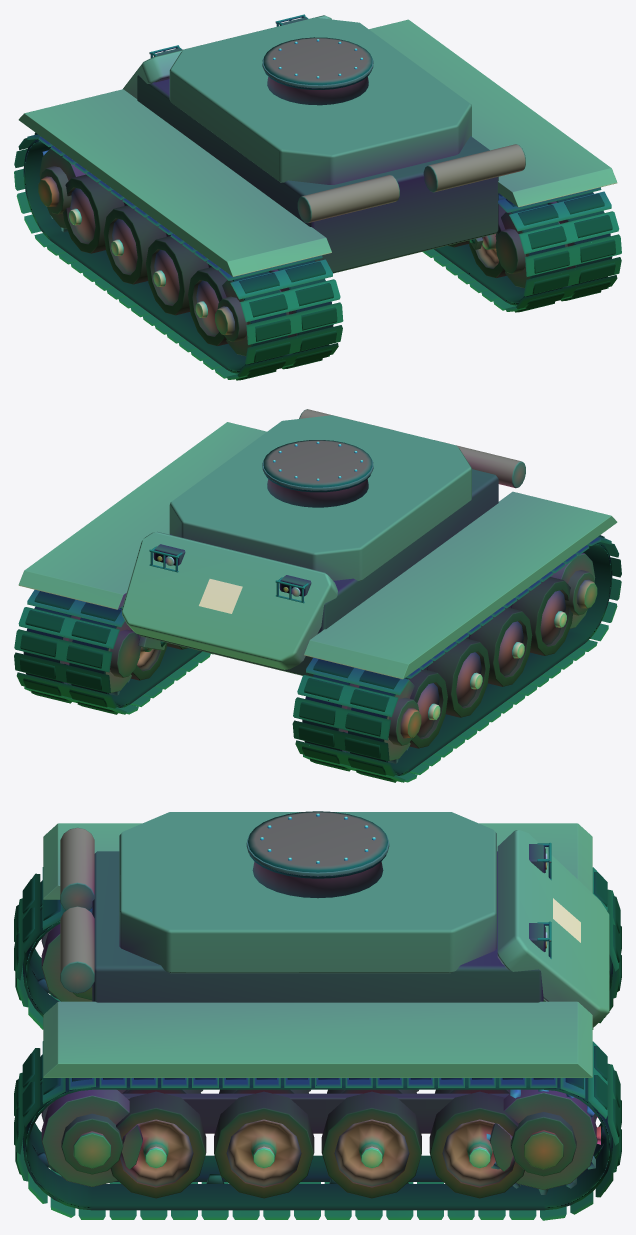
Rendered from legs_tread_light.glb.
The picture shows the model from 3 angles, top to bottom: view 1: azimuth 30°, elevation 25°; view 2: azimuth 150°, elevation 25°; view 3: azimuth 270°, elevation 25°; orthographic projection. The views are drawn at different scales.
Parts seen in each view (by area): view 1: Body__armor_sub, Track_L__armor, Body__dark, Track_L__rubber, Track_R__armor, Track_L__gunmetal, Track_R__rubber, Track_R__gunmetal, Body__gunmetal, Track_L__armor_sub, Track_L__dark, Body__armor (+3 smaller); view 2: Body__armor_sub, Track_L__armor, Track_L__rubber, Body__armor, Track_R__armor, Body__dark, Track_L__gunmetal, Track_R__rubber, Track_R__gunmetal, Track_L__armor_sub, Body__gunmetal, Track_L__dark (+4 smaller); view 3: Body__armor_sub, Track_R__armor, Track_R__rubber, Body__dark, Track_R__gunmetal, Track_R__armor_sub, Body__armor, Track_R__dark, Body__gunmetal, Track_L__armor, Track_L__gunmetal, Track_L__rubber (+3 smaller).
Boxes of the visible parts, bbox=[...] form: Body__armor_sub: bbox=[169, 17, 471, 184]; Track_L__armor: bbox=[18, 89, 331, 276]; Body__dark: bbox=[137, 17, 498, 273]; Track_L__rubber: bbox=[23, 132, 337, 380]; Track_R__armor: bbox=[369, 19, 617, 207]; Track_L__gunmetal: bbox=[14, 134, 343, 379]; Track_R__rubber: bbox=[434, 192, 615, 312]; Track_R__gunmetal: bbox=[422, 187, 621, 311]; Body__gunmetal: bbox=[149, 14, 525, 223]; Track_L__armor_sub: bbox=[70, 188, 234, 335]; Track_L__dark: bbox=[40, 166, 289, 341]; Body__armor: bbox=[123, 15, 331, 98]; Body__armor_sub: bbox=[169, 415, 471, 580]; Track_L__armor: bbox=[304, 491, 617, 679]; Track_L__rubber: bbox=[298, 535, 612, 782]; Body__armor: bbox=[121, 531, 337, 669]; Track_R__armor: bbox=[18, 422, 266, 609]; Body__dark: bbox=[139, 440, 498, 676]; Track_L__gunmetal: bbox=[292, 536, 621, 782]; Track_R__rubber: bbox=[20, 591, 201, 714]; Track_R__gunmetal: bbox=[14, 590, 213, 714]; Track_L__armor_sub: bbox=[417, 579, 597, 737]; Body__gunmetal: bbox=[149, 409, 525, 603]; Track_L__dark: bbox=[347, 570, 594, 745]; Body__armor_sub: bbox=[119, 812, 496, 973]; Track_R__armor: bbox=[43, 1001, 592, 1077]; Track_R__rubber: bbox=[14, 1046, 621, 1210]; Body__dark: bbox=[92, 811, 544, 1002]; Track_R__gunmetal: bbox=[16, 1041, 619, 1220]; Track_R__armor_sub: bbox=[73, 1119, 514, 1186]; Body__armor: bbox=[497, 830, 609, 1027]; Track_R__dark: bbox=[61, 1093, 576, 1176]; Body__gunmetal: bbox=[60, 827, 551, 993]; Track_L__armor: bbox=[43, 823, 592, 899]; Track_L__gunmetal: bbox=[16, 867, 619, 1029]; Track_L__rubber: bbox=[14, 872, 621, 1017].
Size of the model in its own units: 2.32 by 1.21 by 2.48.
